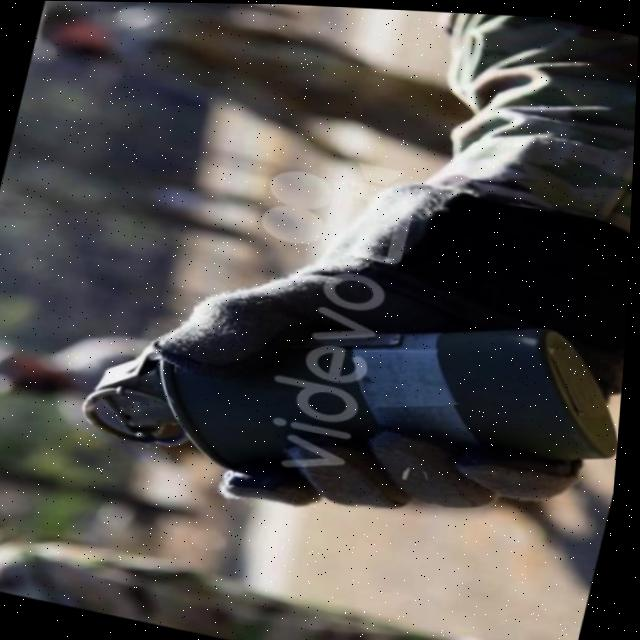grenade: (65, 235, 632, 562)
